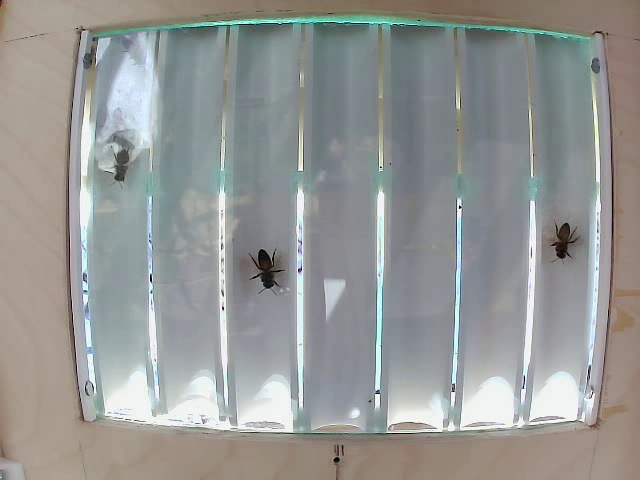bee: (246, 243, 290, 305), (542, 209, 577, 268), (105, 140, 138, 190)
